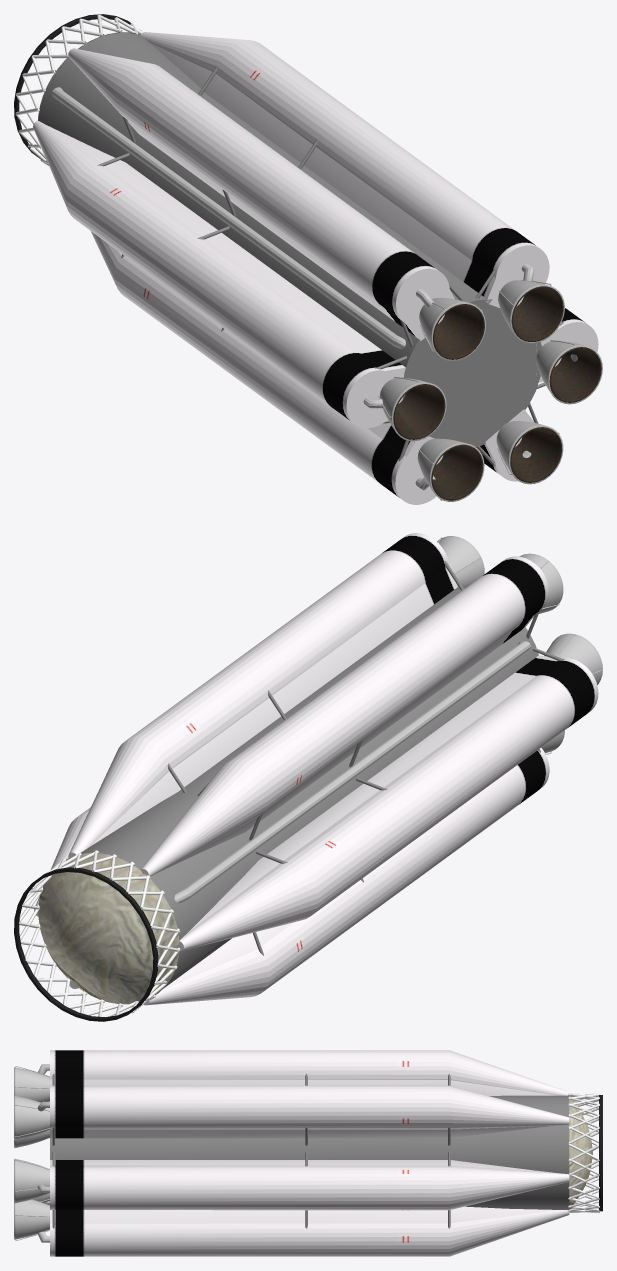
File: protonstg1.obj
3 views of the same model, one above another, from view 1: azimuth 30°, elevation 25°; view 2: azimuth 150°, elevation 25°; view 3: azimuth 270°, elevation 25° (orthographic). The views are drawn at different scales.
Parts seen in each view (by area): view 1: group26, group13, group39, group80, group52, group0, group17, group43, group4, group30, group56, group69 (+9 smaller); view 2: group26, group13, group39, group80, group52, group79, group0, group82, group5, group18, group31, group65; view 3: group13, group65, group78, group39, group80, group79, group5, group57, group70, group31, group82, group18.
Boxes of the visible parts, x1,y1,x2,y2 form: group26: (33, 120, 405, 428); group13: (140, 32, 549, 307); group39: (68, 48, 454, 340); group80: (38, 32, 541, 446); group52: (90, 231, 443, 504); group0: (51, 87, 405, 348); group17: (393, 384, 445, 439); group43: (431, 444, 483, 500); group4: (511, 286, 563, 341); group30: (433, 304, 484, 359); group56: (549, 347, 601, 402); group69: (510, 427, 562, 482); group26: (179, 655, 598, 951); group13: (68, 533, 457, 857); group39: (140, 556, 548, 876); group80: (81, 587, 538, 987); group52: (143, 748, 549, 1005); group79: (38, 852, 179, 1004); group0: (174, 641, 530, 903); group82: (14, 867, 158, 1021); group5: (437, 536, 484, 587); group18: (544, 633, 602, 684); group31: (519, 553, 563, 613); group65: (34, 807, 90, 916); group13: (50, 1085, 569, 1138); group65: (50, 1160, 569, 1210); group78: (50, 1206, 569, 1256); group39: (50, 1050, 569, 1095); group80: (50, 1095, 569, 1209); group79: (569, 1096, 592, 1209); group5: (14, 1095, 49, 1140); group57: (14, 1158, 49, 1203); group70: (14, 1199, 49, 1239); group31: (14, 1067, 49, 1102); group82: (599, 1095, 602, 1211); group18: (14, 1130, 49, 1148).
Bounding box in the file's own units: 7.55 × 6.74 × 21.43.
Materials: 7 (3 with a texture image).
